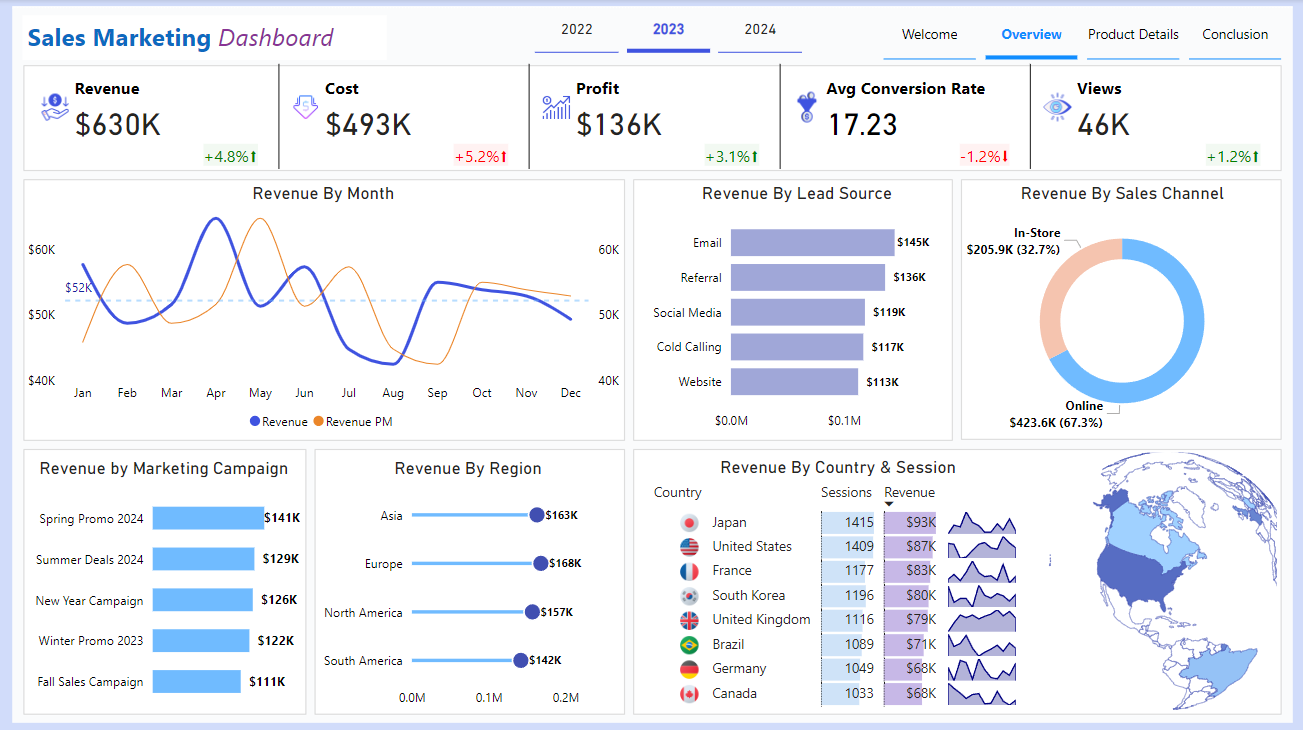

What the dashboard file says about the page in this screenshot:
{"tool":"powerbi","page":{"name":"Overview","canvas":[1280,720],"ordinal":1},"visuals":[{"type":"barChart","title":"Revenue By Lead Source","fields":{"Y":["All Measures.Revenue"],"Category":["dimLeadSource.Lead Source"]},"box":[630.2,180.4,303.4,252.3],"z":0},{"type":"cardVisual","fields":{"Data":["All Measures.Revenue","All Measures.Cost","All Measures.Profit","All Measures.Avg Conversion Rate","All Measures.Views"]},"box":[22.3,59.4,1236.4,113.2],"z":1000},{"type":"lineChart","title":"Revenue By Month","fields":{"Y":["All Measures.Revenue"],"Category":["Calendar.Month"],"Y2":["All Measures.Revenue PM"]},"box":[22.4,180.4,590.7,252.3],"z":2000},{"type":"donutChart","title":"Revenue By Sales Channel","fields":{"Y":["All Measures.Revenue"],"Category":["dimChannel.Sales Channel"]},"box":[945,180,313.8,252.5],"z":3000},{"type":"clusteredBarChart","fields":{"Category":["dimMarketingCampaign.Marketing Campaign"],"Y":["All Measures.Revenue"]},"box":[22.5,450,277.5,253.8],"z":4000},{"type":"clusteredBarChart","title":"Revenue By Region","fields":{"Y":["All Measures.Blank 1","All Measures.Revenue","All Measures.Blank 2"],"Category":["dimCountry.Region"]},"box":[305.2,449.8,307.9,254.1],"z":5000},{"type":"advancedSlicerVisual","fields":{"Values":["Calendar.Date.Variation.Date Hierarchy.Year"]},"box":[520.2,0,274.8,58.9],"z":6000},{"type":"tableEx","title":"Revenue By Country & Session ","fields":{"Values":["dimCountry.flag","dimCountry.Country","All Measures.Sessions","All Measures.Revenue","All Measures.Revenue Sparkline"]},"box":[630.7,449.1,384.1,254],"z":7000},{"type":"shapeMap","fields":{"Value":["All Measures.Revenue"],"Category":["dimCountry.Country"]},"box":[1014,441,245,263],"z":8000},{"type":"textbox","box":[22.5,16.2,357.5,43.8],"z":9000},{"type":"pageNavigator","box":[867.5,7.4,391.4,52.8],"z":10000}]}

Visuals, with their boxes in screenshot pixels (x1, y1, x2, y2), scaled from the page's 1280x720 canvas onto the 1303x730 screenshot:
"Revenue By Lead Source" barChart: locate(642, 183, 950, 439)
cardVisual - All Measures.Revenue x All Measures.Cost: locate(23, 60, 1281, 175)
"Revenue By Month" lineChart: locate(23, 183, 624, 439)
"Revenue By Sales Channel" donutChart: locate(962, 182, 1281, 439)
clusteredBarChart - dimMarketingCampaign.Marketing Campaign x All Measures.Revenue: locate(23, 456, 305, 714)
"Revenue By Region" clusteredBarChart: locate(311, 456, 624, 714)
advancedSlicerVisual - Calendar.Date.Variation.Date Hierarchy.Year: locate(530, 0, 809, 60)
"Revenue By Country & Session " tableEx: locate(642, 455, 1033, 713)
shapeMap - All Measures.Revenue x dimCountry.Country: locate(1032, 447, 1282, 714)
textbox: locate(23, 16, 387, 61)
pageNavigator: locate(883, 8, 1282, 61)
